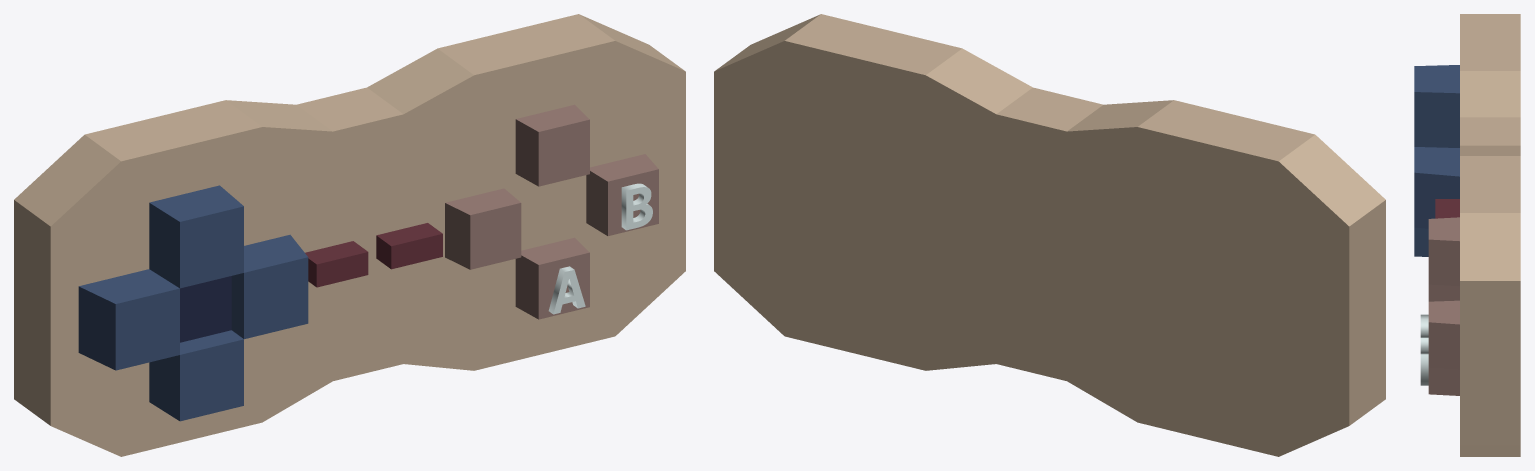
The model's file is gamepad.fbx.
The picture shows the model from 3 angles, left to right: view 1: azimuth 30°, elevation 25°; view 2: azimuth 150°, elevation 25°; view 3: azimuth 270°, elevation 25°; orthographic projection. The views are drawn at different scales.
Parts seen in each view (by area): view 1: Controller, B, A; view 2: Controller; view 3: Controller, B, A.
Part boxes in pixels (x1=…): Controller: x1=14, y1=14, x2=685, y2=456; B: x1=621, y1=183, x2=652, y2=230; A: x1=548, y1=266, x2=585, y2=314; Controller: x1=714, y1=14, x2=1385, y2=456; Controller: x1=1414, y1=14, x2=1520, y2=456; B: x1=1420, y1=314, x2=1428, y2=354; A: x1=1420, y1=354, x2=1428, y2=385.
Bounding box in the file's own units: 100 × 44.46 × 17.52.
